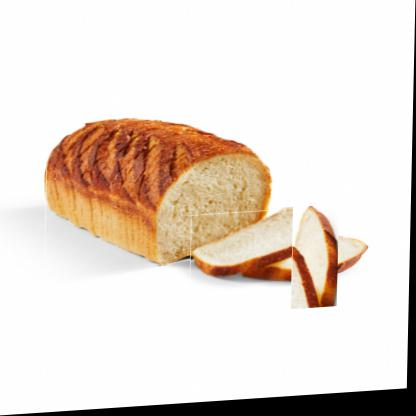bread: (191, 210, 333, 291), (279, 222, 356, 301)
bread_loaf: (45, 113, 273, 275)
